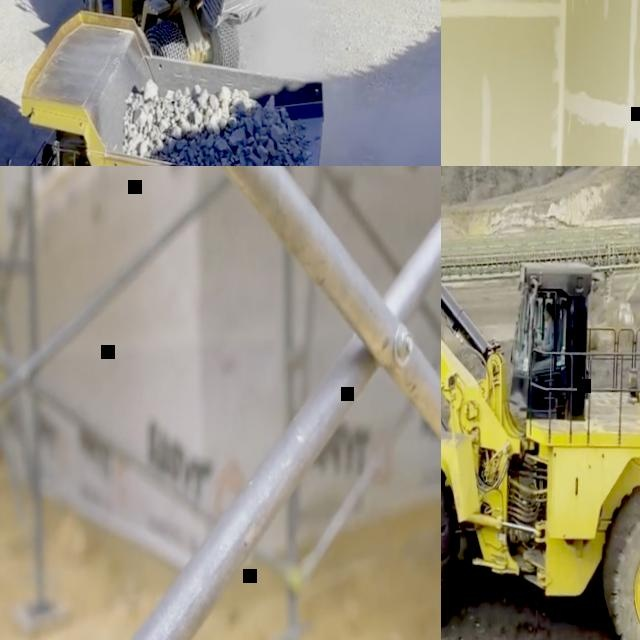NO-Hardhat: (544, 303, 552, 312)
NO-Mask: (543, 317, 547, 324)
NO-Safety Vest: (542, 322, 553, 348)
Person: (529, 302, 554, 368)
machinery: (441, 166, 640, 640), (0, 2, 331, 166), (75, 0, 316, 97)
